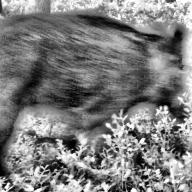boar: (0, 9, 192, 161)
